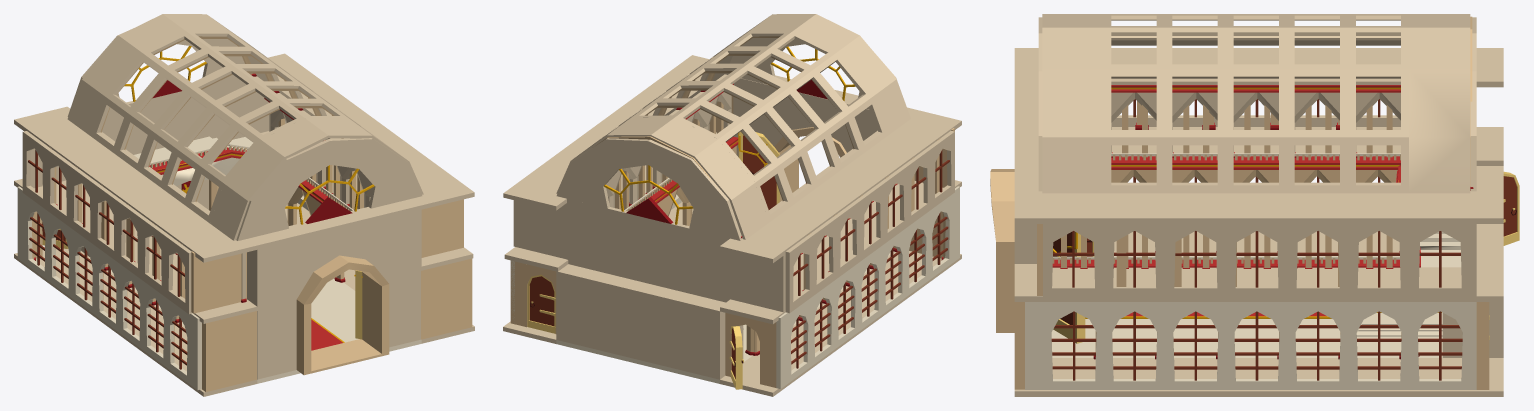
The model's file is throne_room.glb.
3 views of the same model, side by side, from view 1: azimuth 30°, elevation 25°; view 2: azimuth 150°, elevation 25°; view 3: azimuth 270°, elevation 25° (orthographic). The views are drawn at different scales.
Parts seen in each view (by area): view 1: Object_16; view 2: Object_16; view 3: Object_16.
Part boxes in pixels (<box>): Object_16: <box>14,14,474,396</box>; Object_16: <box>503,14,961,396</box>; Object_16: <box>990,14,1519,396</box>.
Bounding box in the file's own units: 33.48 × 25.65 × 43.32.
2 materials, 2 textured.
